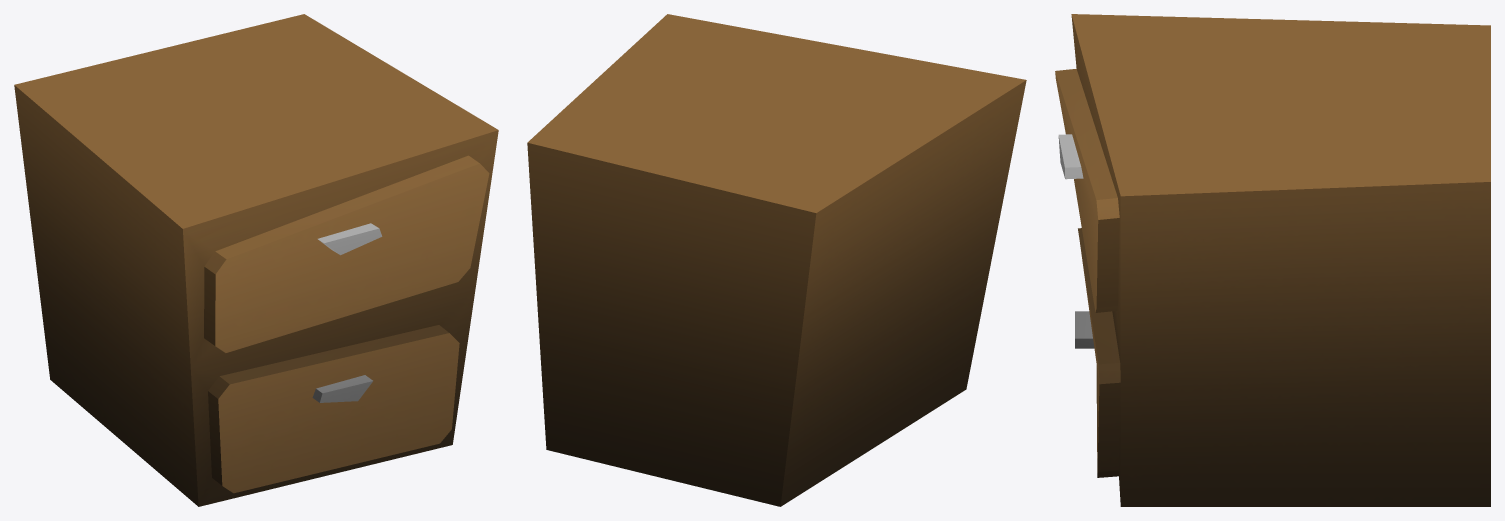
File: comodino.fbx
3 renders of one model, left to right at view 1: azimuth 30°, elevation 25°; view 2: azimuth 150°, elevation 25°; view 3: azimuth 270°, elevation 25°, orthographic. The views are drawn at different scales.
Visible parts, largest first — view 1: SM_comodino; view 2: SM_comodino; view 3: SM_comodino.
Boxes of the visible parts, x1,y1,x2,y2 form: SM_comodino: (14,14,498,506); SM_comodino: (527,14,1026,506); SM_comodino: (1055,14,1490,506).
Size of the model in its own units: 141 by 121 by 142.
